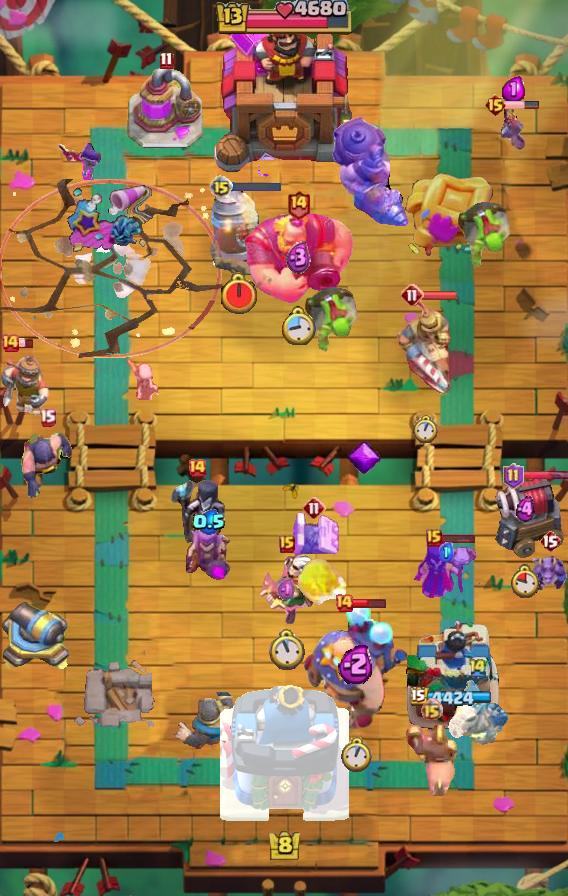axe: (412, 539, 480, 601)
bar-level: (455, 199, 513, 271), (302, 284, 360, 356)
barbarian-barrel: (498, 103, 528, 151)
clock: (213, 0, 355, 38)
earthquake: (0, 345, 52, 421)
electro-spirit: (338, 643, 375, 684), (192, 509, 226, 535), (286, 241, 311, 275), (503, 76, 526, 103), (516, 496, 535, 523), (277, 577, 297, 602), (438, 542, 453, 562)
elixir: (219, 272, 259, 316), (269, 629, 305, 671), (280, 306, 316, 345), (341, 737, 372, 773), (511, 564, 540, 598), (414, 416, 438, 445)
emote: (230, 181, 282, 193), (521, 470, 568, 482), (440, 532, 476, 544), (352, 597, 387, 609), (422, 290, 458, 301), (504, 100, 540, 110), (15, 339, 34, 350)
firecracker: (174, 691, 234, 748)
freeze: (405, 725, 457, 797)
goblin: (55, 141, 107, 183)
goblin-brawler: (288, 508, 340, 558)
golem: (483, 473, 567, 559)
guard: (0, 178, 222, 357)
heal-spirit: (126, 358, 160, 400)
king-tower: (211, 7, 357, 181), (219, 678, 349, 826)
lightning: (241, 209, 355, 305)
little-prince: (302, 599, 410, 733)
magic-archer: (209, 184, 269, 276)
mini-pekka: (446, 679, 510, 747)
monk: (20, 430, 74, 500)
pekka: (127, 68, 205, 150)
queen-tower: (404, 617, 502, 731)
ram-rider: (395, 292, 455, 398)
rascal-boy: (169, 477, 225, 549)
rascal-girl: (184, 522, 234, 582)
royal-delivery: (528, 550, 568, 594)
royal-recruit: (0, 591, 72, 675)
selected: (412, 687, 497, 709)
skeleton-king: (257, 553, 317, 629)
skeleton-king-skill: (346, 440, 382, 476)
text: (286, 189, 311, 220), (209, 175, 233, 199), (400, 283, 424, 307), (302, 496, 326, 520), (484, 93, 507, 117), (504, 463, 525, 489), (420, 699, 443, 722), (539, 529, 561, 553), (468, 658, 488, 679), (0, 333, 20, 353), (187, 458, 207, 478), (334, 593, 354, 613), (39, 409, 57, 427), (426, 529, 442, 547), (279, 535, 295, 553), (159, 50, 174, 69)
valkyrie: (295, 554, 347, 610)
wizard: (329, 115, 411, 229)
